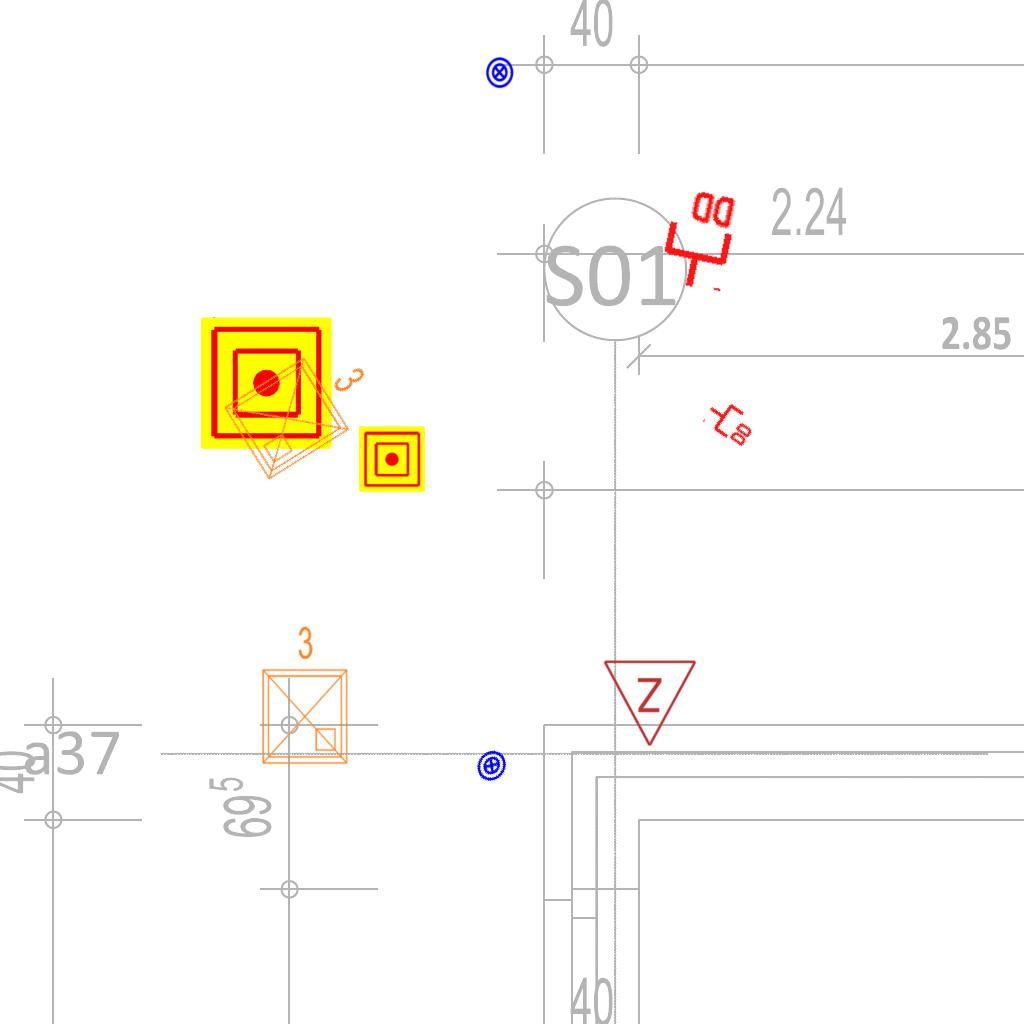Datenanschluss_zweifach: (653, 180, 742, 297), (700, 392, 762, 451)
Einbaudownlights_LED_Konferenzraeume: (211, 322, 395, 490), (251, 621, 355, 771)
NAM-Nichtautomatischer_Melder: (200, 317, 332, 449), (359, 426, 425, 492)
Taster_beleuchtet: (468, 742, 515, 789), (483, 56, 516, 89)
Zimmersignalleuchte: (602, 653, 700, 753)
